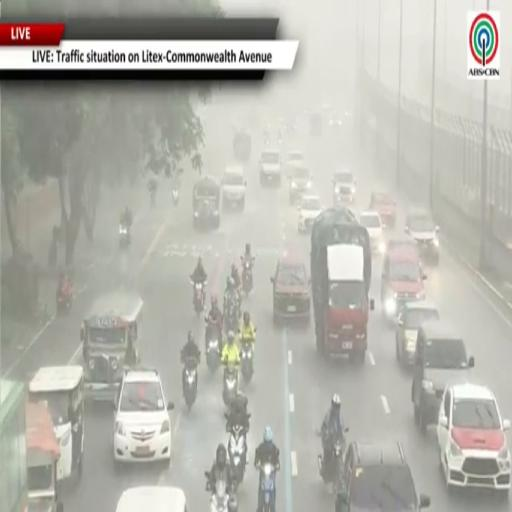bus: (0, 379, 28, 511)
car: (438, 383, 510, 495), (412, 320, 474, 434), (335, 442, 430, 511), (114, 370, 174, 463), (381, 247, 426, 319), (396, 300, 440, 366), (271, 256, 310, 323), (405, 210, 439, 264), (116, 486, 187, 511), (193, 176, 220, 229), (360, 212, 386, 253), (222, 166, 246, 210), (369, 192, 396, 228), (289, 165, 312, 204), (258, 149, 282, 186), (298, 195, 321, 232), (333, 170, 356, 205), (386, 235, 419, 258), (286, 151, 305, 169), (328, 112, 342, 127)
jeepney: (81, 292, 143, 401), (29, 365, 83, 479), (26, 402, 63, 511)
motorcycle: (318, 436, 345, 493), (228, 425, 247, 484), (207, 480, 238, 511), (259, 463, 278, 511), (206, 318, 221, 373), (183, 358, 197, 409), (223, 364, 238, 406), (224, 294, 239, 333), (241, 340, 253, 383), (191, 281, 206, 315), (241, 258, 253, 296), (57, 290, 73, 314), (224, 309, 239, 334), (119, 223, 130, 248), (150, 189, 156, 207), (173, 188, 179, 205)
truck: (311, 207, 374, 361)
